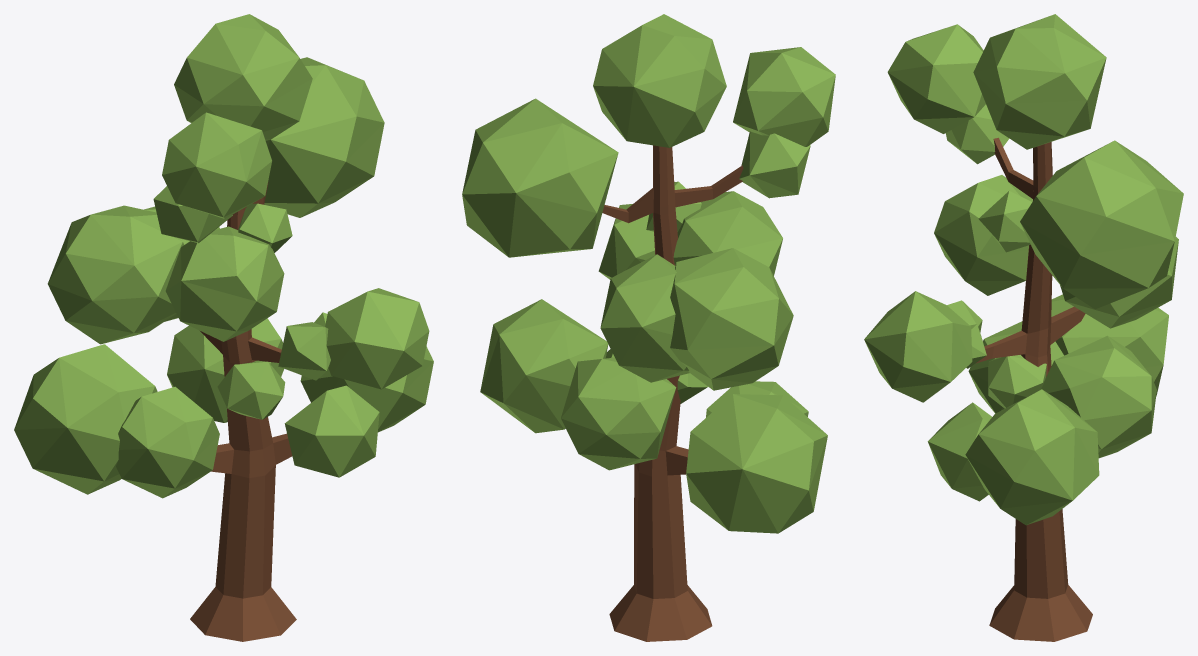
Rendered from arbol10.glb.
3 views of the same model, side by side, from view 1: azimuth 30°, elevation 25°; view 2: azimuth 150°, elevation 25°; view 3: azimuth 270°, elevation 25° (orthographic).
Visible parts, largest first — view 1: Circle_3; view 2: Circle_3; view 3: Circle_3.
Part boxes in pixels (x1,y1,x2,y2): Circle_3: [14, 14, 433, 641]; Circle_3: [462, 14, 835, 641]; Circle_3: [864, 14, 1183, 641].
Size of the model in its own units: 2.3 by 3.6 by 1.74.
